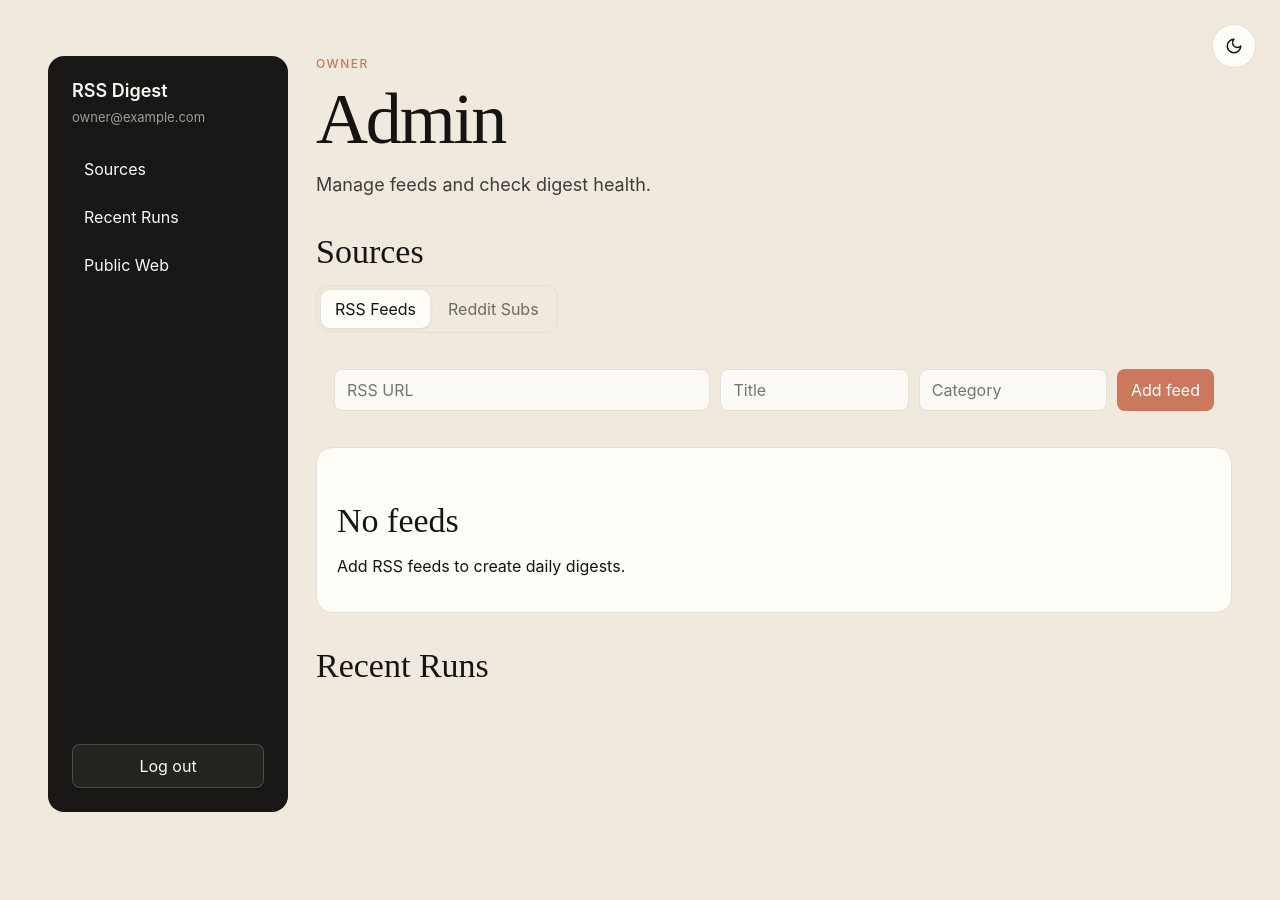
App › renders the admin page at /admin
Expected: the heading "Admin" is shown, x1=316 y1=79 x2=505 y2=159
Expected: the text "Manage feeds and check digest health." is shown, x1=316 y1=174 x2=651 y2=195
Click the tab "Reddit Subs".
click(493, 309)  # box x1=434 y1=290 x2=553 y2=328
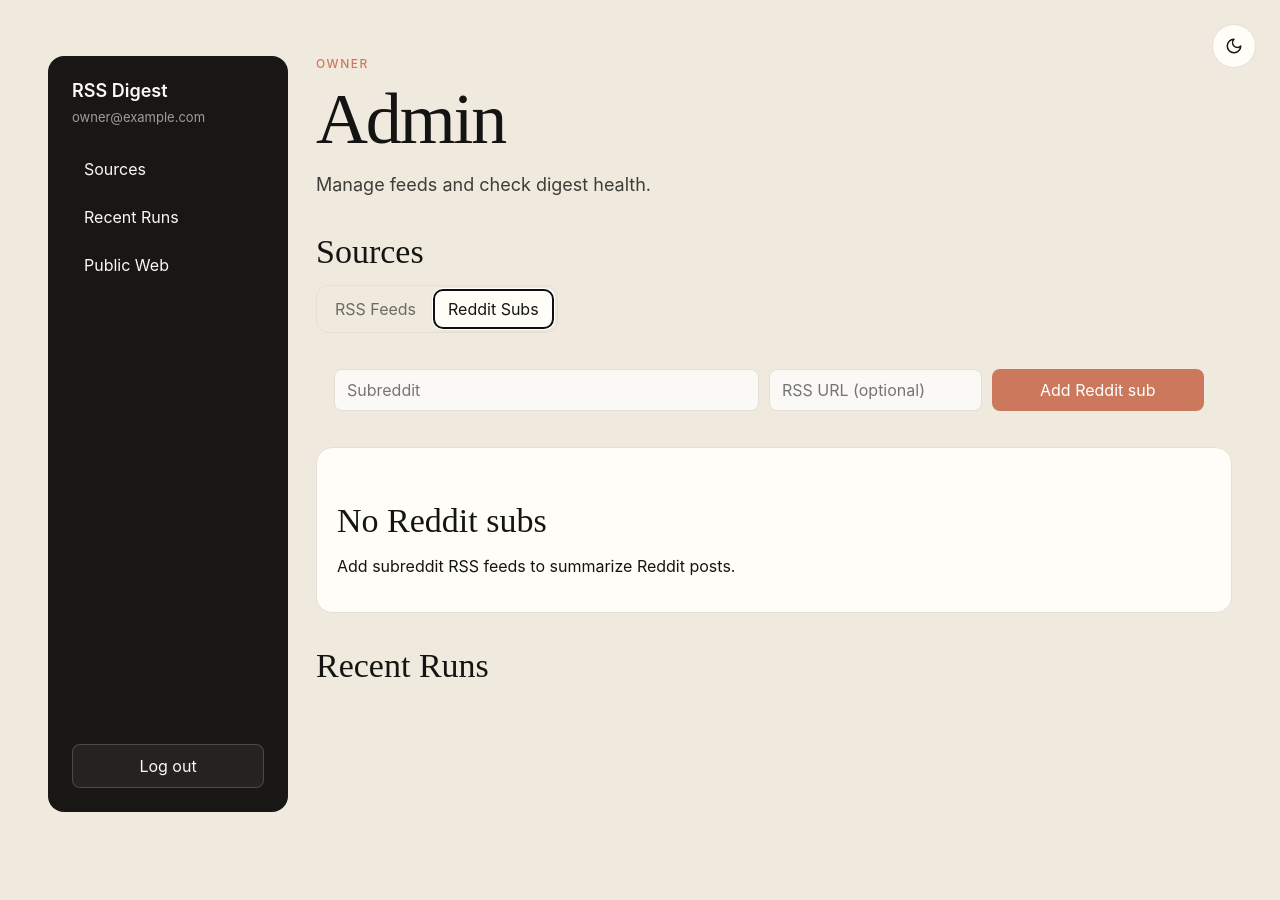
Expected: the heading "Recent Runs" is shown, x1=316 y1=647 x2=489 y2=684
Expected: the field with placeholder "Subreddit" is shown, x1=334 y1=369 x2=759 y2=411
